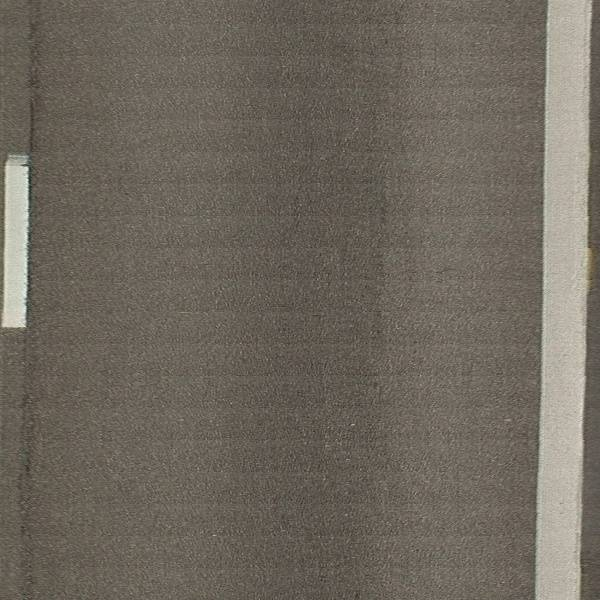road_damage: (20, 20, 46, 166)
